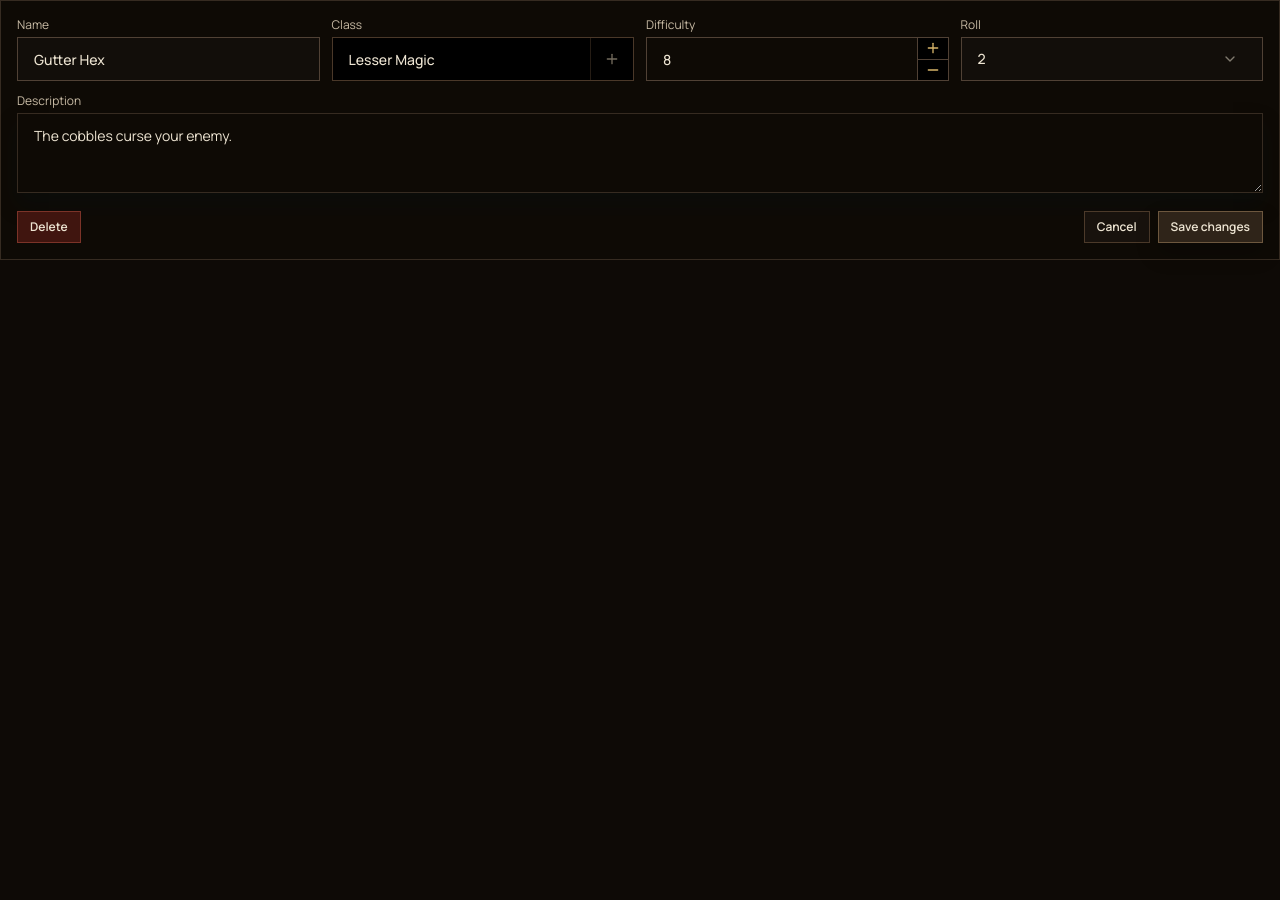
Scenario: AddSpellForm: Delete › shows a refused delete's reason in the confirm, which stays open with the entry still listed, and nothing in the form behind it (BUG-148)
Step 1. Click the button "Delete" → (49, 227), box 17,211 -> 81,243
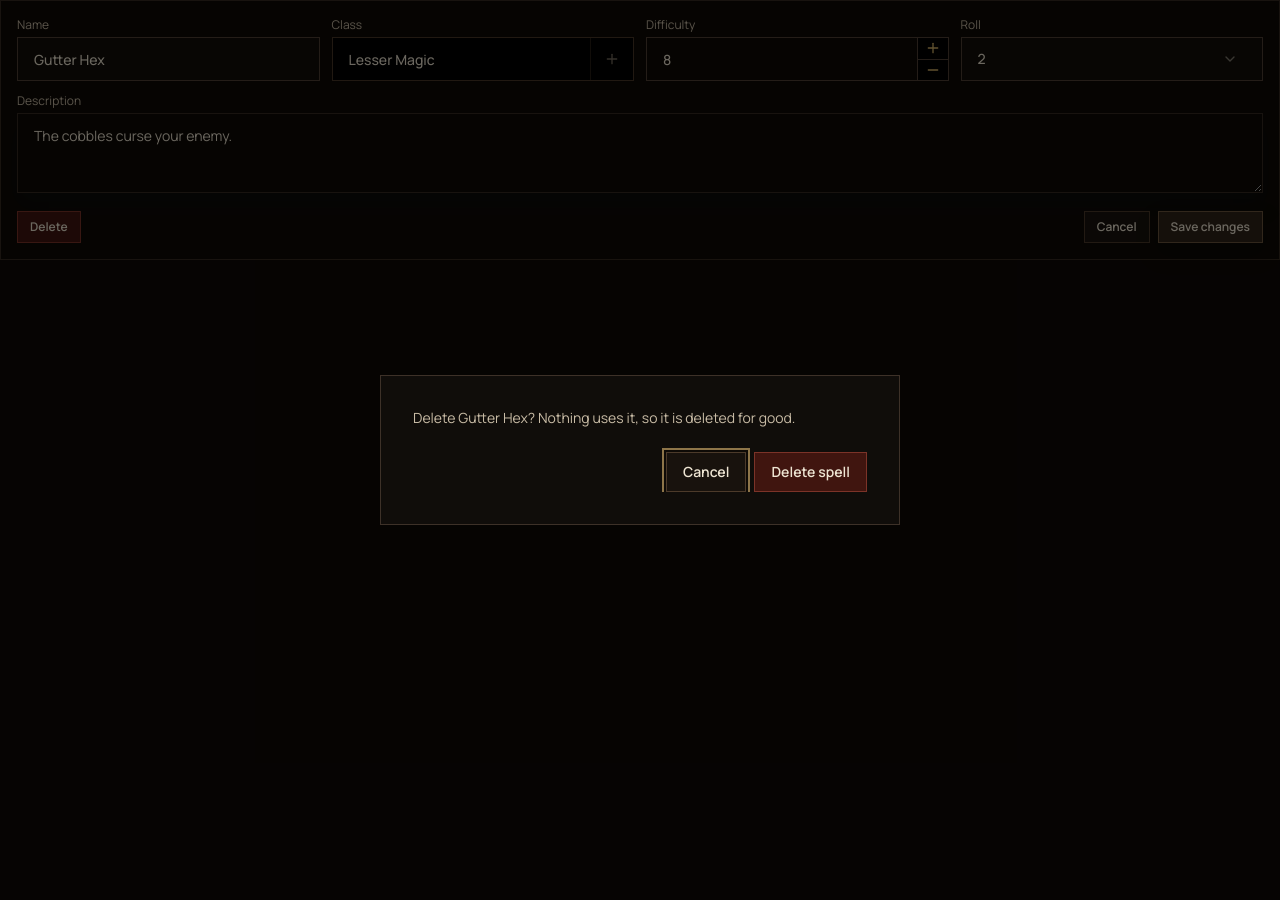
Expected: the text "deleted for good" is shown, 413,408 -> 795,427
Step 2. Click the button "Delete spell" → (811, 472), box 754,452 -> 867,492
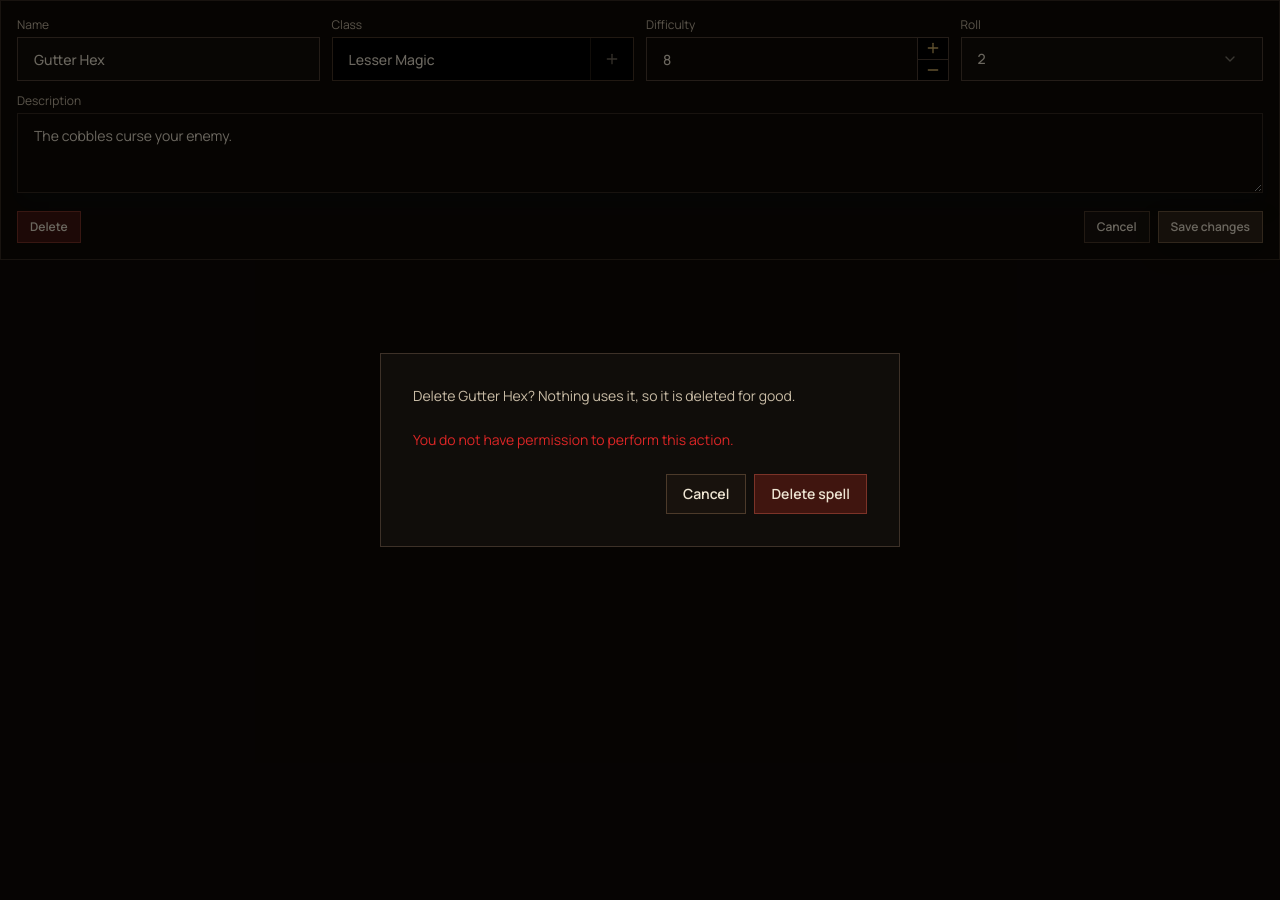
Expected: the message reads "You do not have permission to perform this action.", 413,430 -> 734,449
Expected: the text "You do not have permission to perform this action." is shown once, 413,430 -> 734,449
